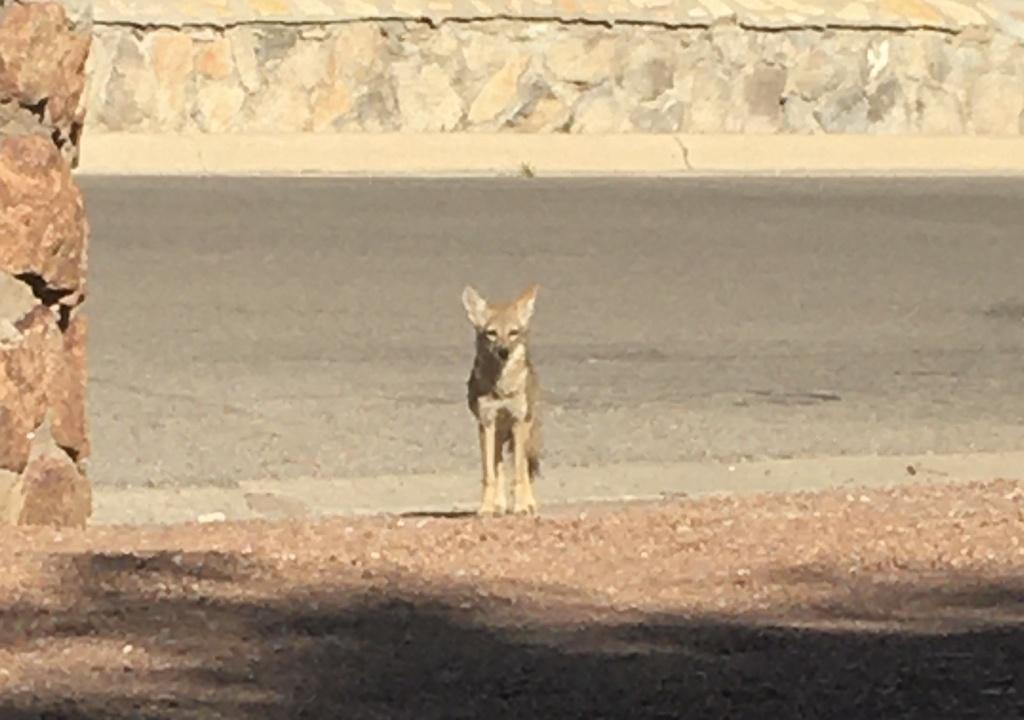Coyote: (457, 281, 551, 524)
